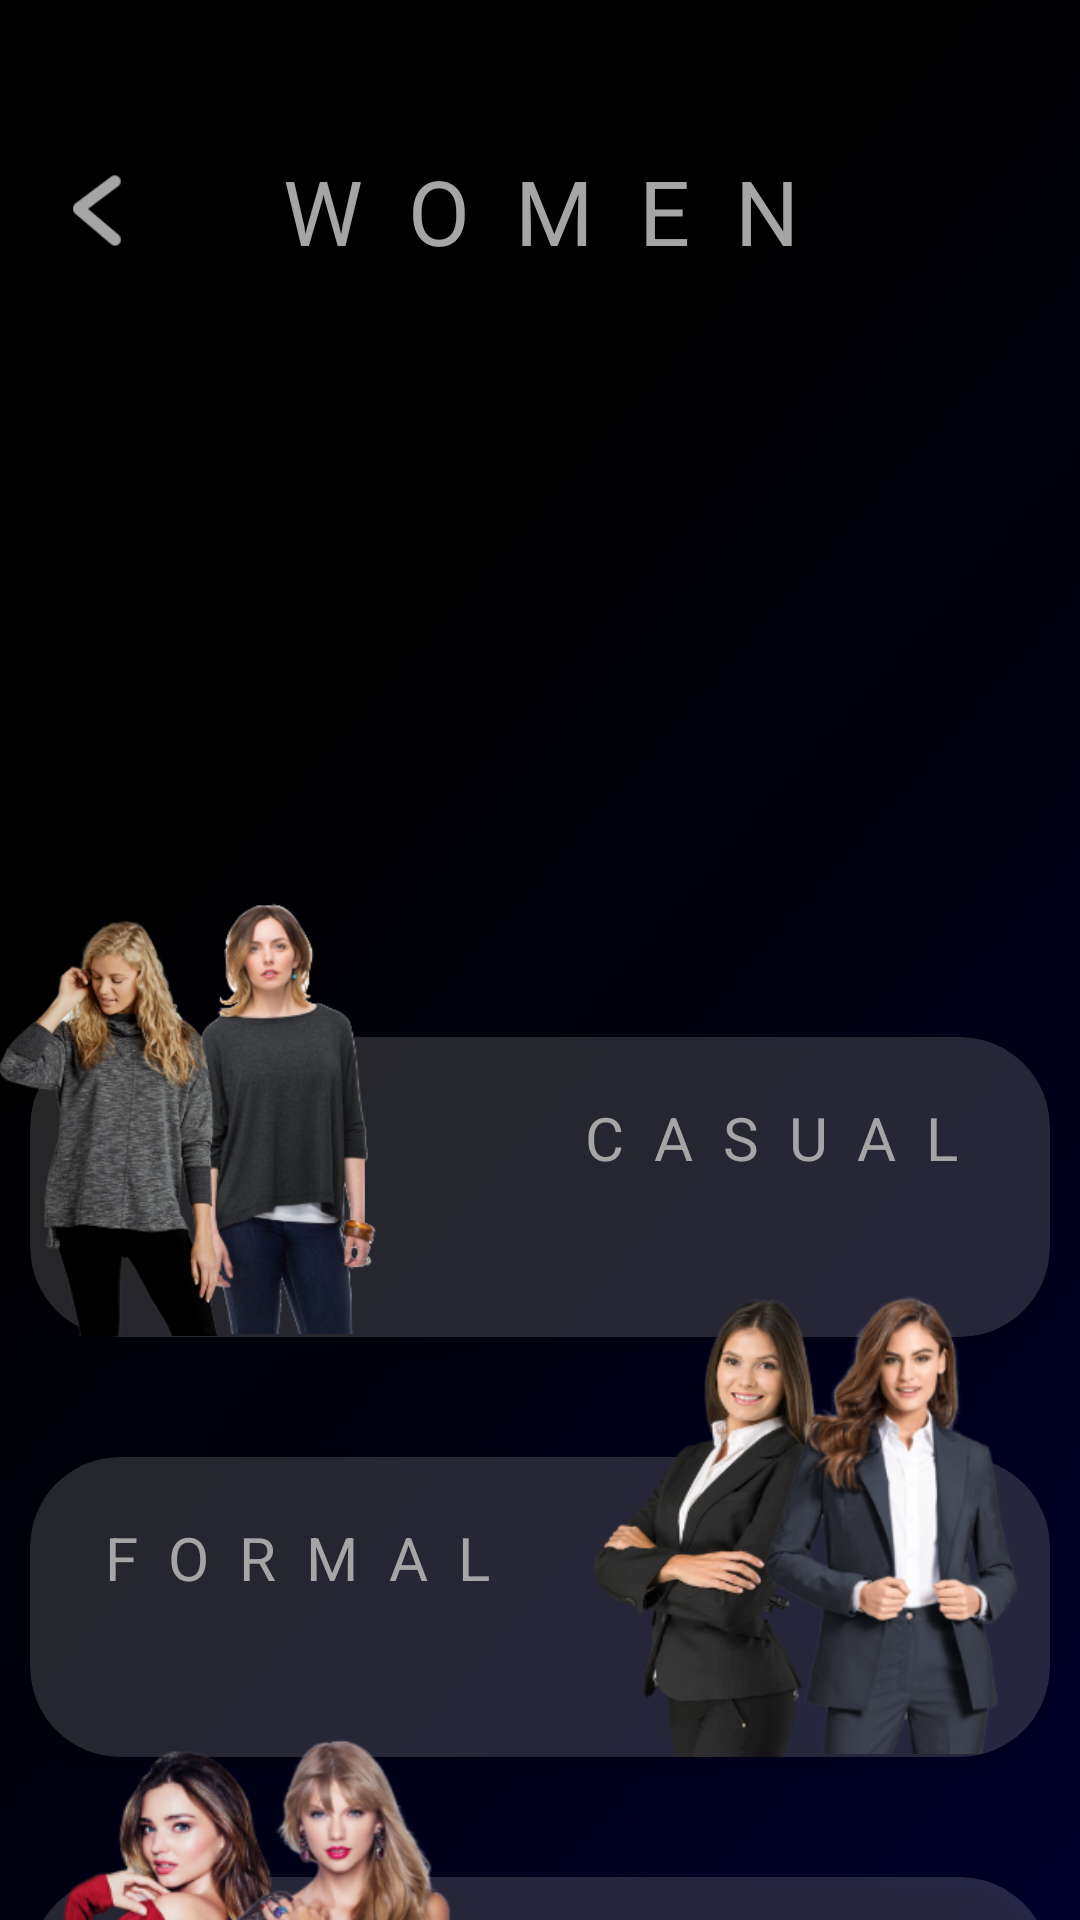

Named icons in this screenshot (1080×1920) and their bounding boxes, [x1,y1,x2,y2]:
back: [73,175,121,246]
